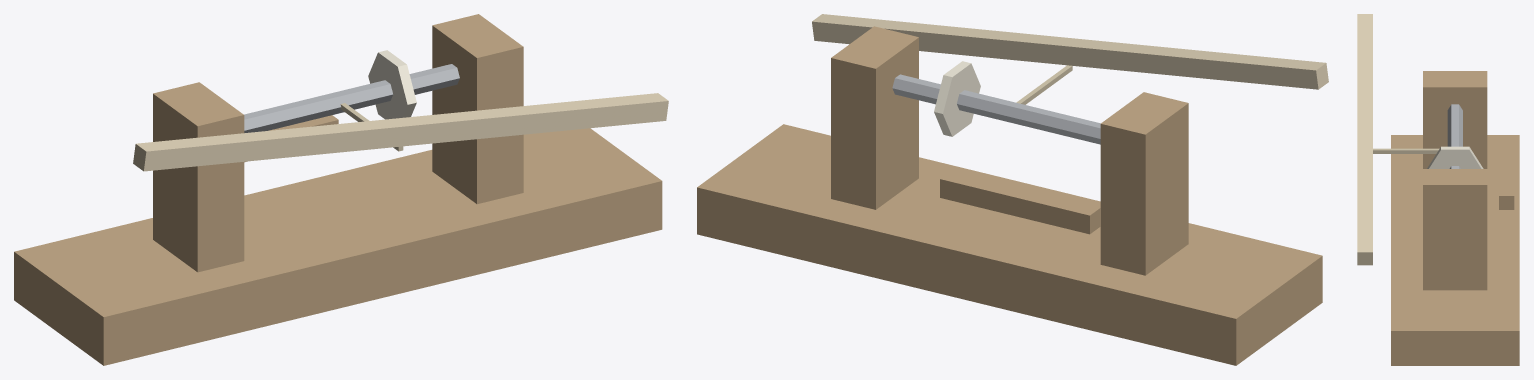
Rendered from prop-button-lathe-bow.fbx.
3 renders of one model, left to right at view 1: azimuth 30°, elevation 25°; view 2: azimuth 150°, elevation 25°; view 3: azimuth 270°, elevation 25°, orthographic. The views are drawn at different scales.
Visible parts, largest first — view 1: prop-button-lathe-bow; view 2: prop-button-lathe-bow; view 3: prop-button-lathe-bow.
Boxes of the visible parts, x1,y1,x2,y2 form: prop-button-lathe-bow: (14, 14, 668, 365); prop-button-lathe-bow: (697, 14, 1328, 365); prop-button-lathe-bow: (1357, 14, 1519, 365).
Size of the model in its own units: 36 by 13.96 by 12.6.
